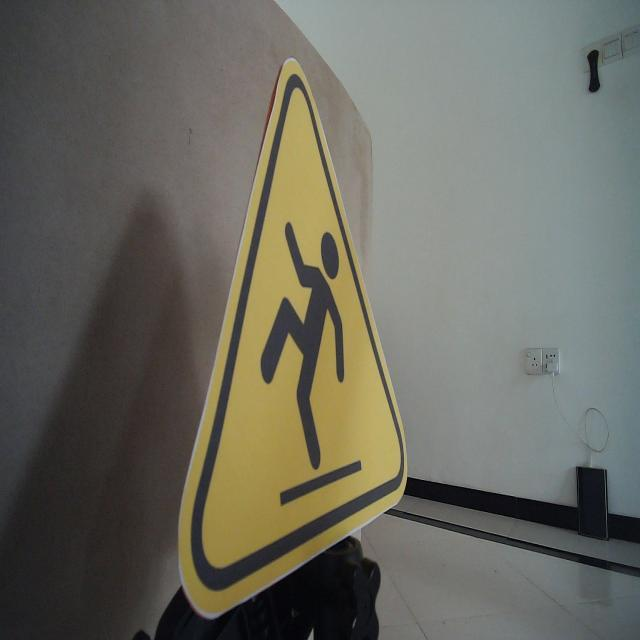slippery_sign: (174, 53, 410, 626)
